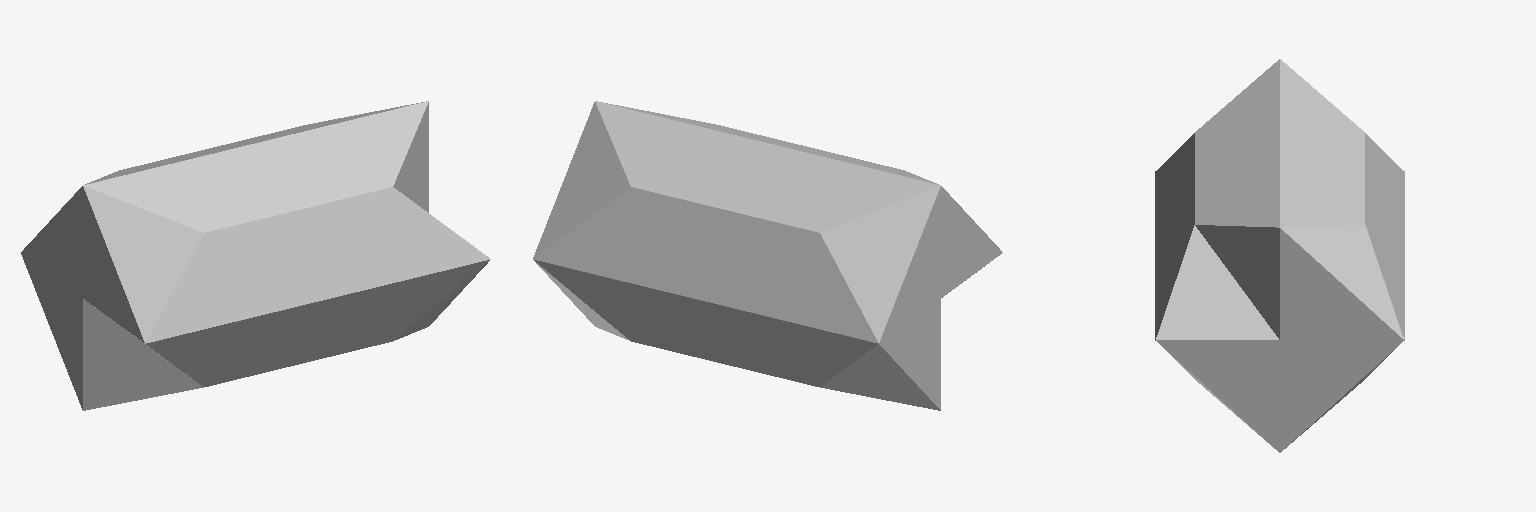
The model's file is Projectile_S_0001.obj.
3 renders of one model, left to right at view 1: azimuth 30°, elevation 25°; view 2: azimuth 150°, elevation 25°; view 3: azimuth 270°, elevation 25°, orthographic.
Visible parts, largest first — view 1: SLug; view 2: SLug; view 3: SLug.
Boxes of the visible parts, x1,y1,x2,y2 form: SLug: [21, 101, 490, 410]; SLug: [533, 101, 1002, 410]; SLug: [1155, 59, 1404, 452].
Size of the model in its own units: 5.36 by 3.34 by 3.34.